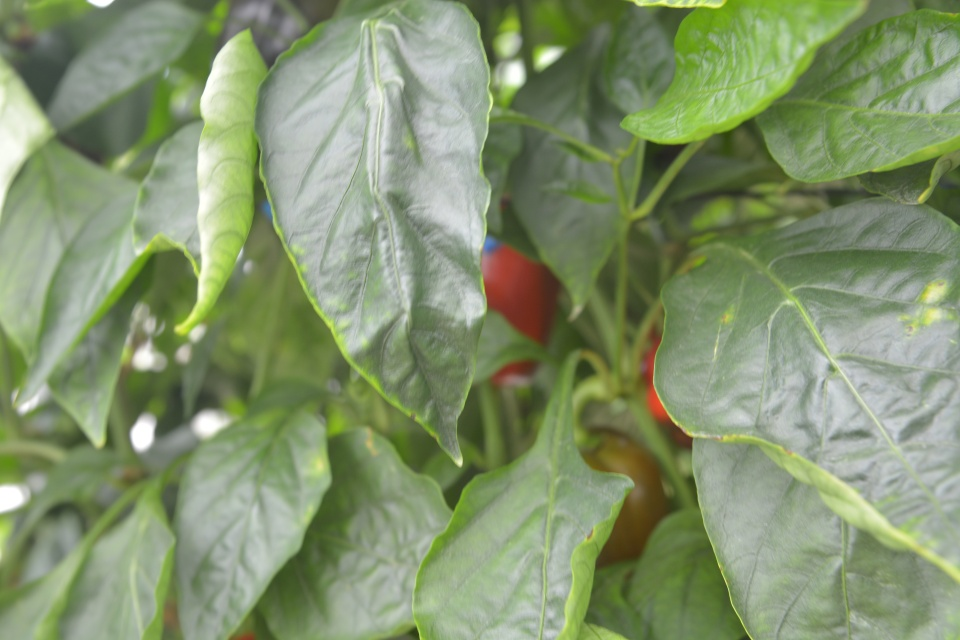fruit: (582, 429, 668, 568), (482, 244, 560, 384)
